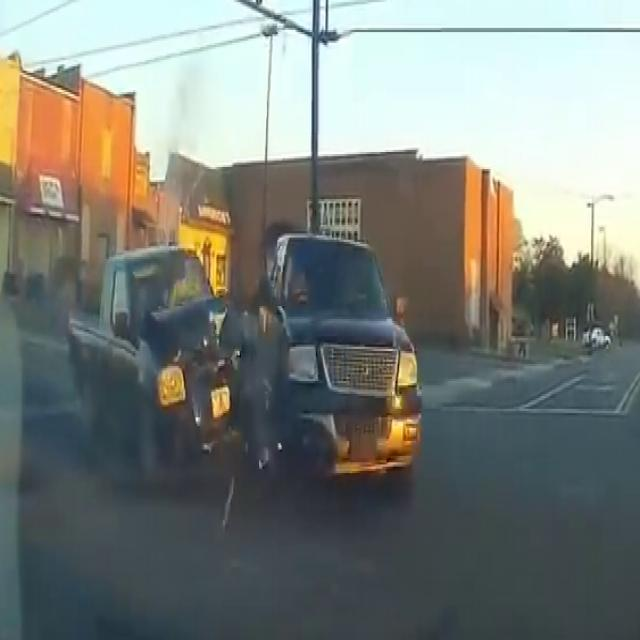accident: (118, 242, 458, 521)
